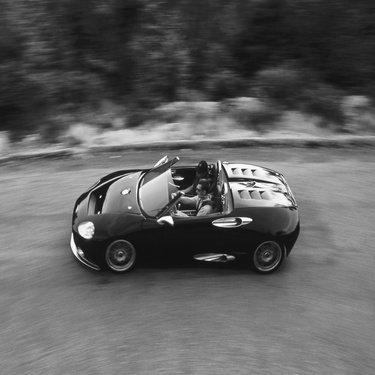car: (56, 150, 302, 281)
